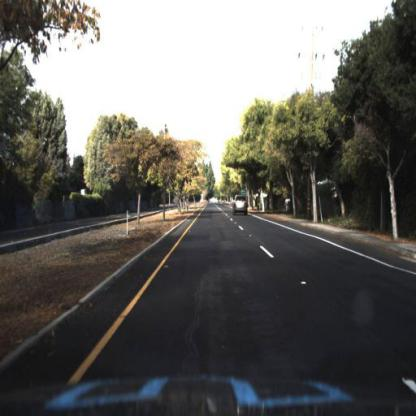car: (232, 194, 253, 219)
